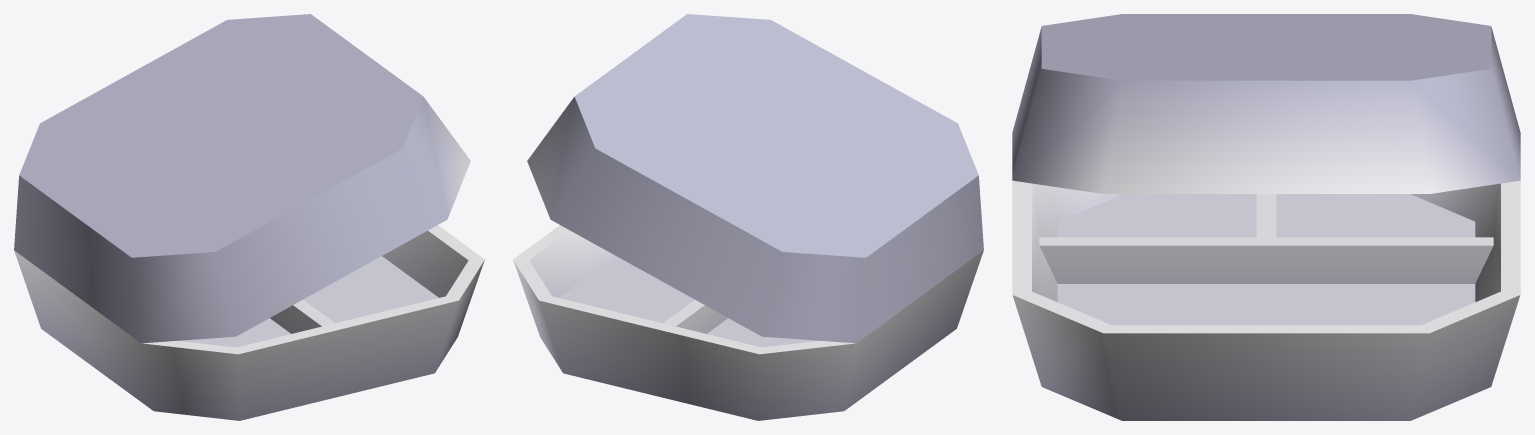
The model's file is StyrofoamContainerPartiallyClosed.glb.
The picture shows the model from 3 angles, left to right: view 1: azimuth 30°, elevation 25°; view 2: azimuth 150°, elevation 25°; view 3: azimuth 270°, elevation 25°; orthographic projection. The views are drawn at different scales.
Parts seen in each view (by area): view 1: lid, styrofoam; view 2: lid, styrofoam; view 3: styrofoam, lid.
Part boxes in pixels (x1=…): lid: x1=14, y1=14, x2=470, y2=343; styrofoam: x1=14, y1=225, x2=484, y2=420; lid: x1=527, y1=14, x2=983, y2=343; styrofoam: x1=513, y1=225, x2=983, y2=420; styrofoam: x1=1012, y1=180, x2=1520, y2=420; lid: x1=1012, y1=14, x2=1520, y2=193.
Bounding box in the file's own units: 0.7637 × 0.5254 × 0.7589.
1 material, 1 textured.
